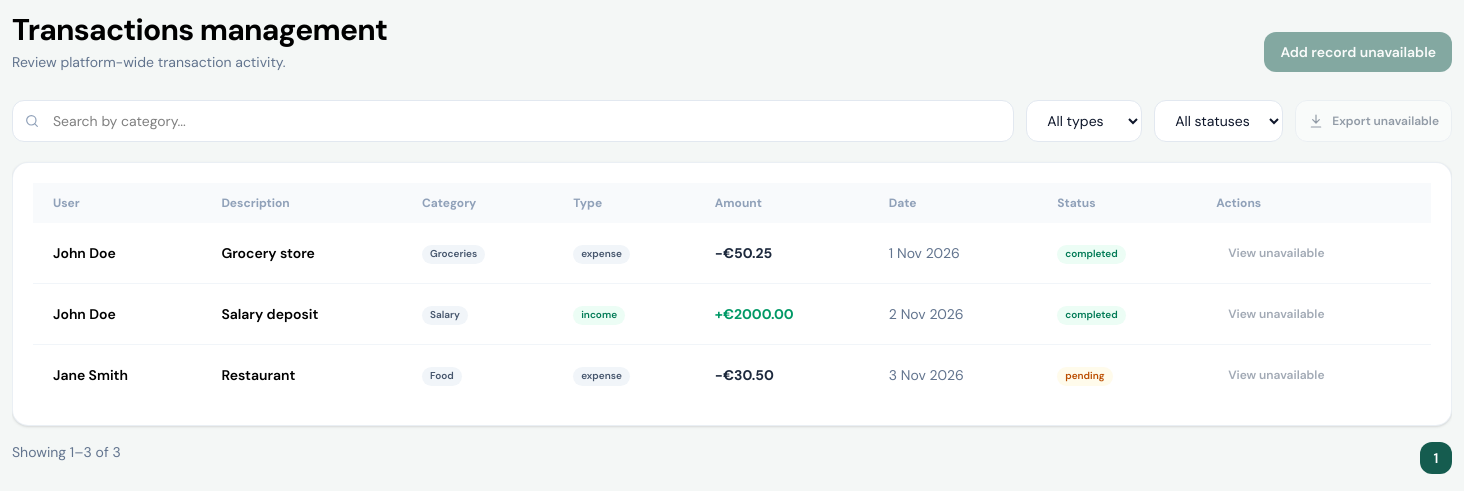
it: AdminTransactions › filters transactions by type (expense)
This screenshot has width=1464, height=491.
Check: the text "Grocery store" is shown, box [201, 223, 402, 284]
Select "Expenses" in the dropdown named "Filter by transaction type" at (1084, 121), box [1026, 100, 1142, 142]
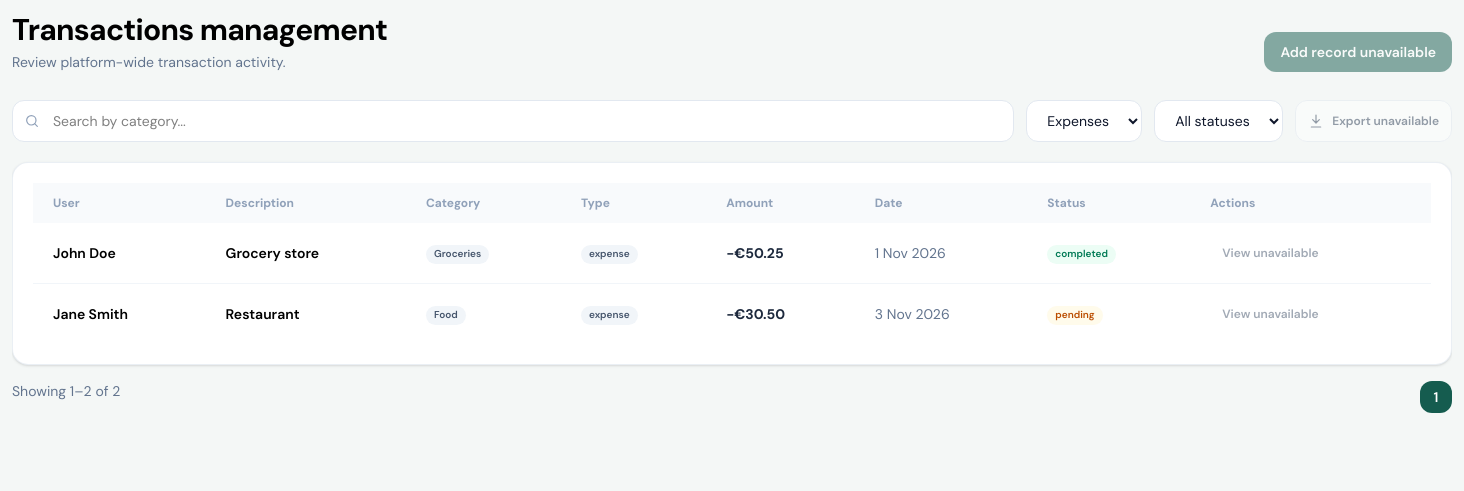
Check: the text "Grocery store" is shown, box [206, 223, 406, 284]
Check: the text "Salary deposit" is gone
